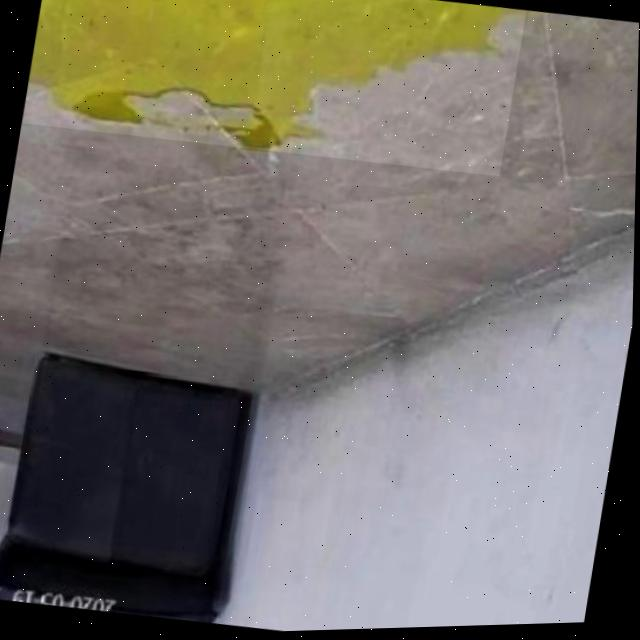spillage: (29, 0, 526, 152)
